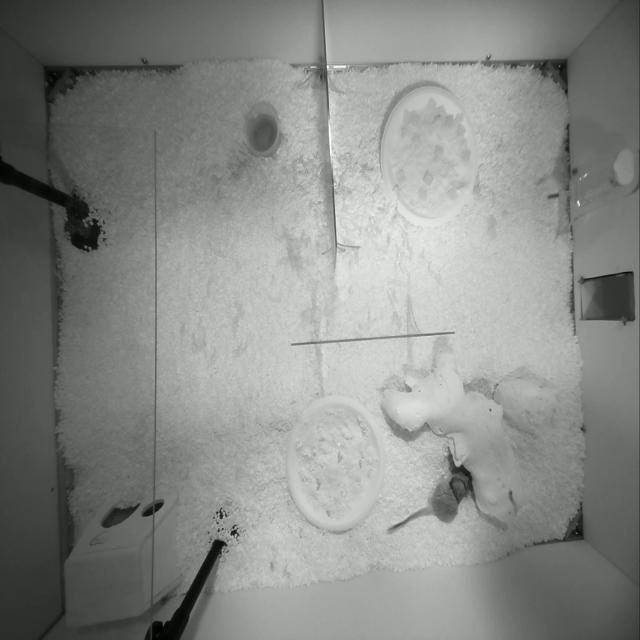adult_front: (388, 470, 473, 531)
